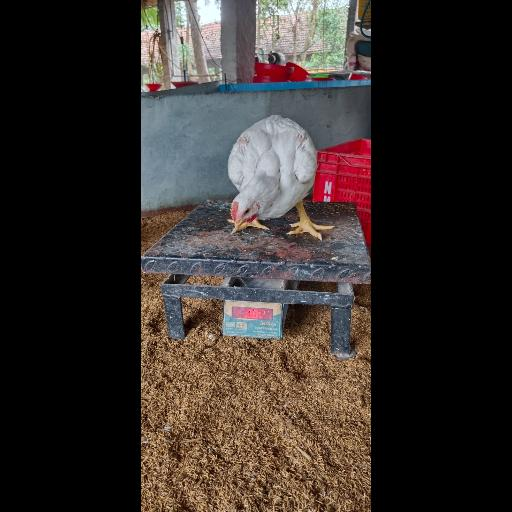chick: (228, 115, 334, 239)
